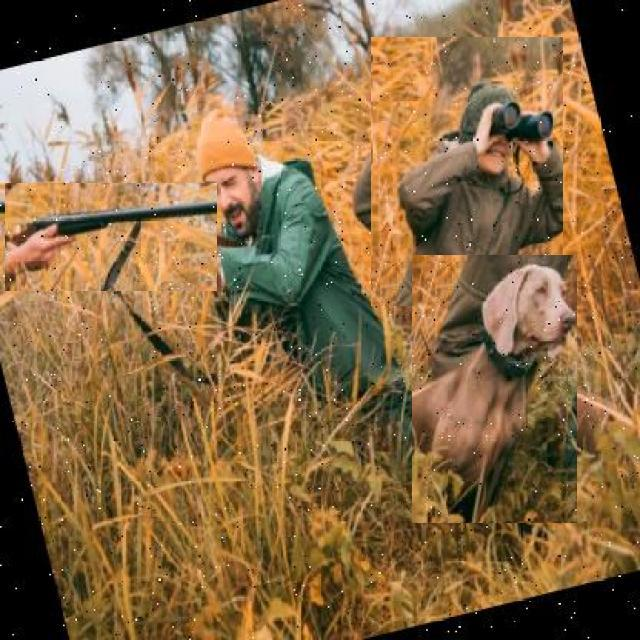p_date: (412, 255, 577, 523)
poacher: (175, 98, 352, 464), (371, 37, 563, 306)
weapon: (5, 183, 217, 291)
